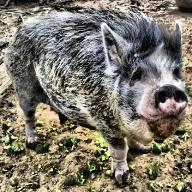boar: (0, 0, 188, 188)
